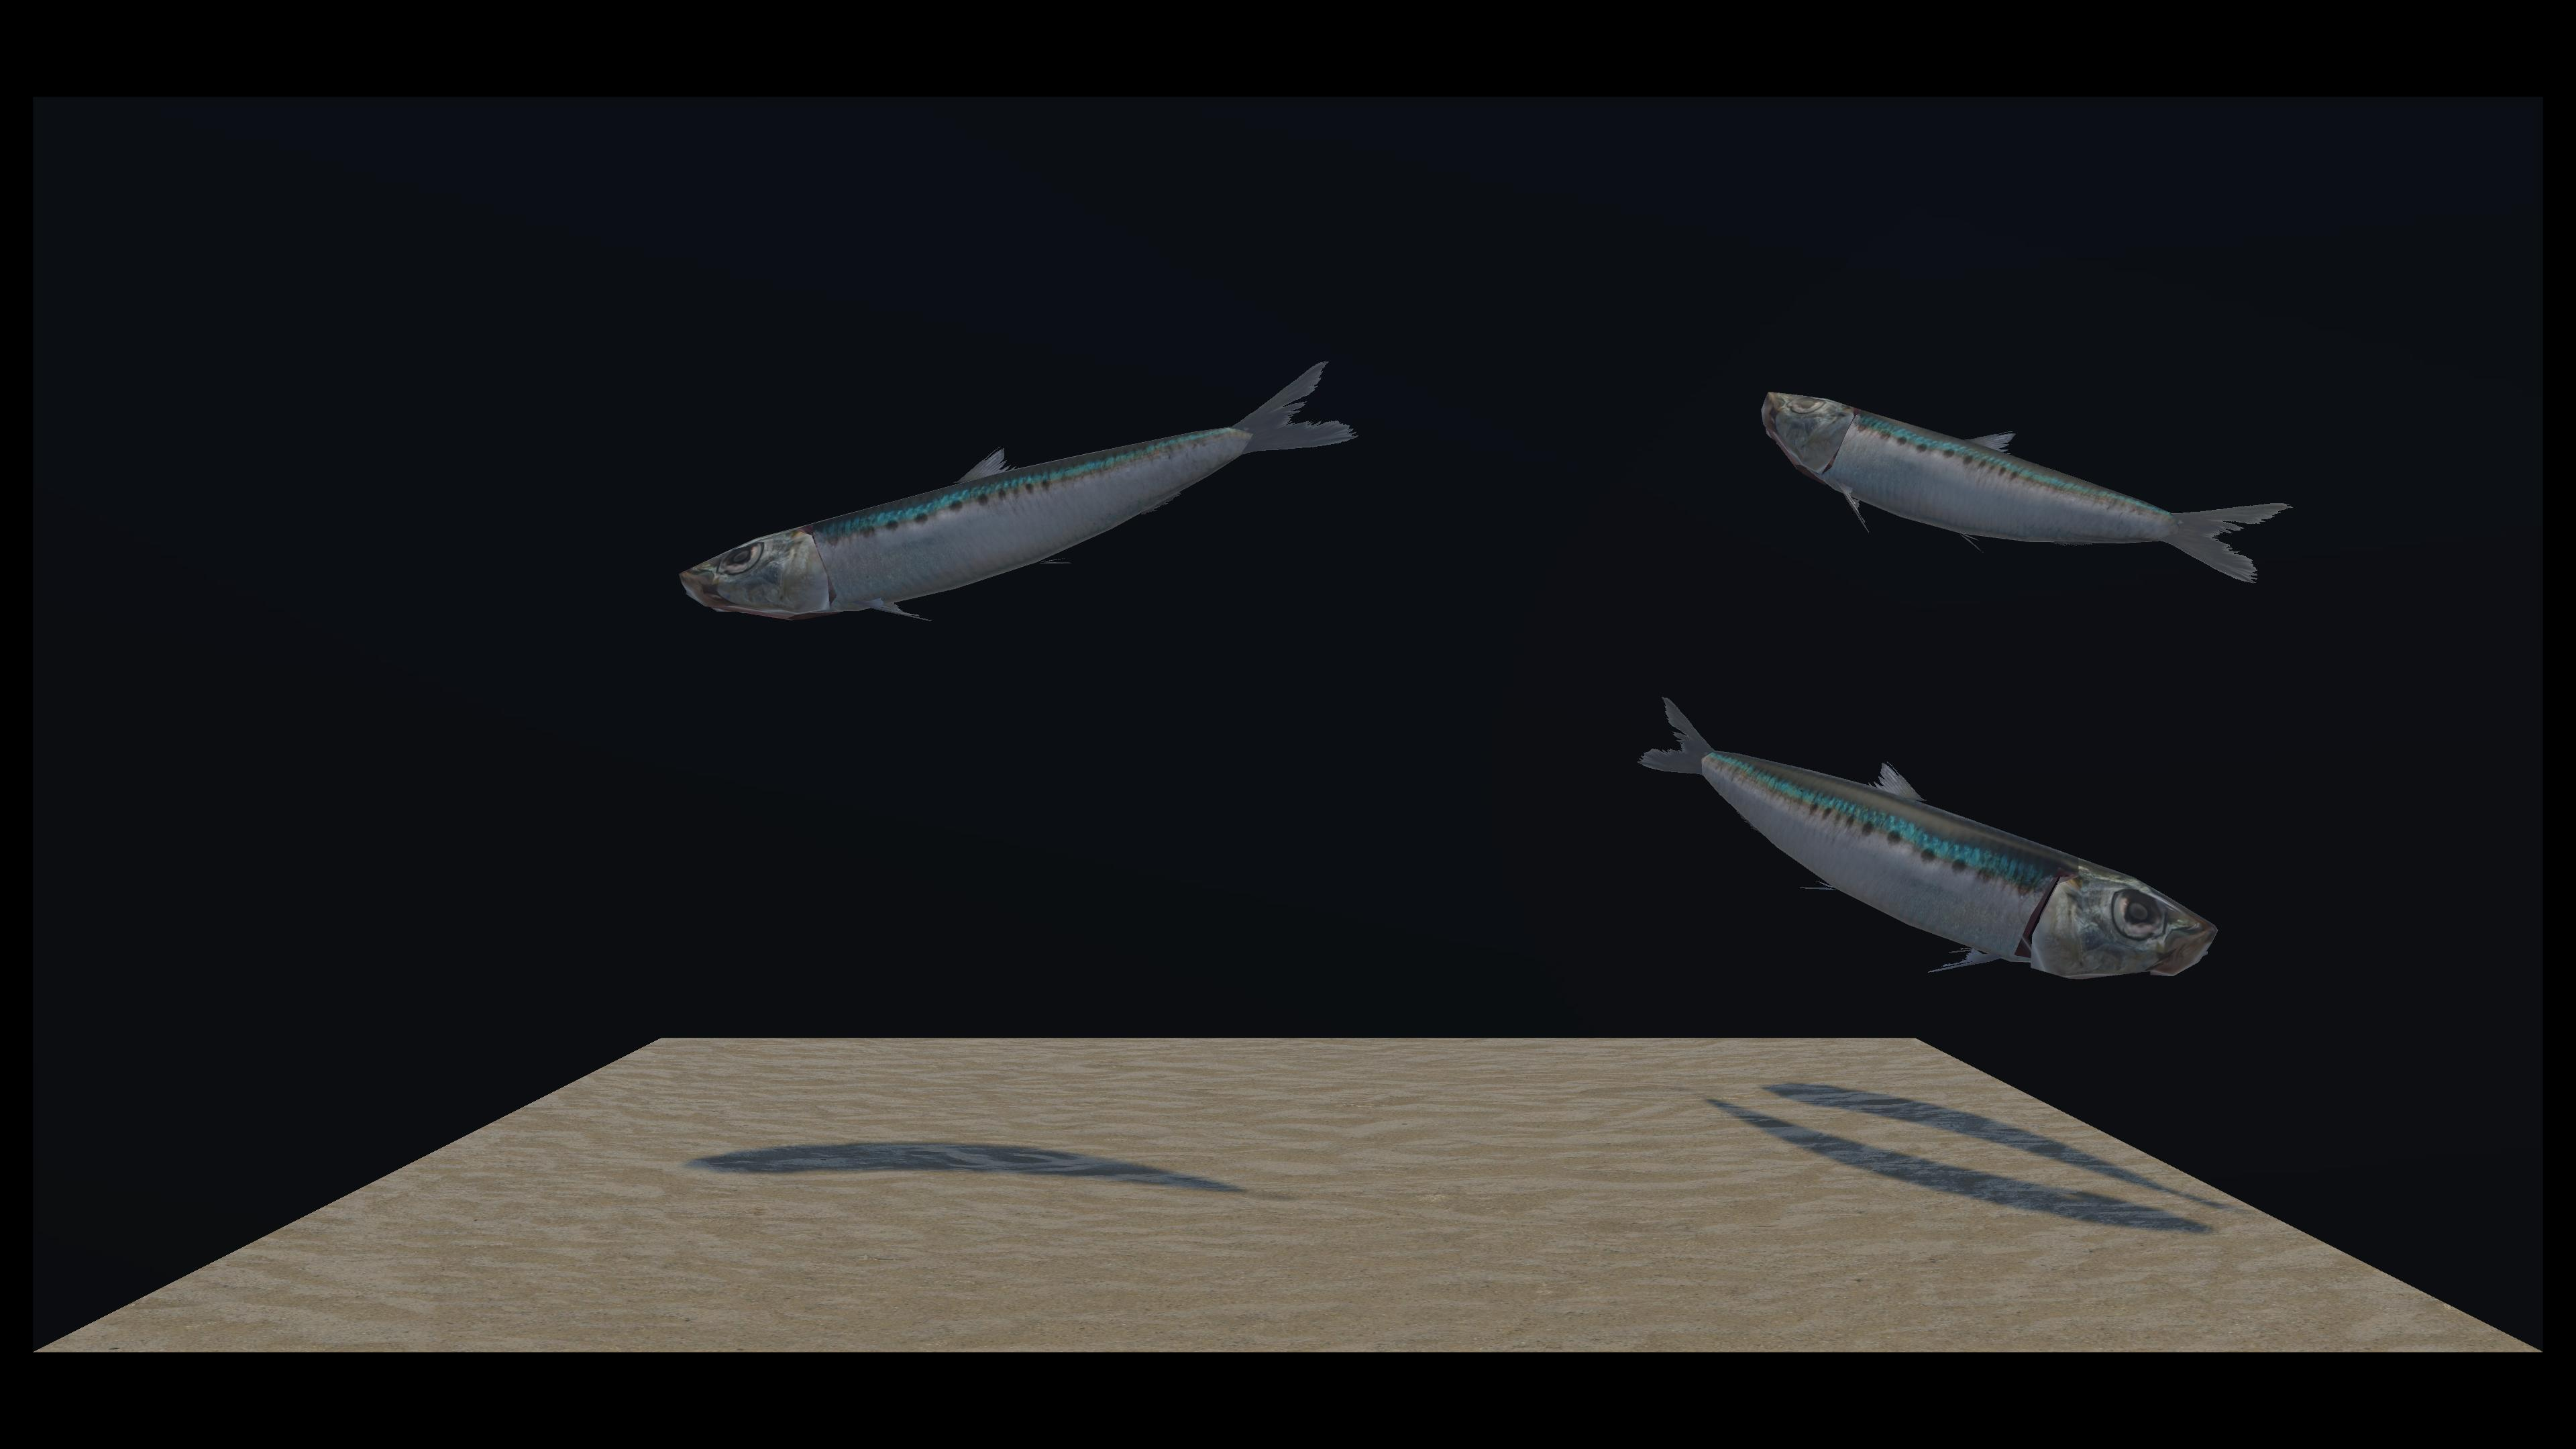Sardine_Front: (970, 540, 2210, 978), (856, 395, 2291, 586), (688, 361, 1345, 632)
